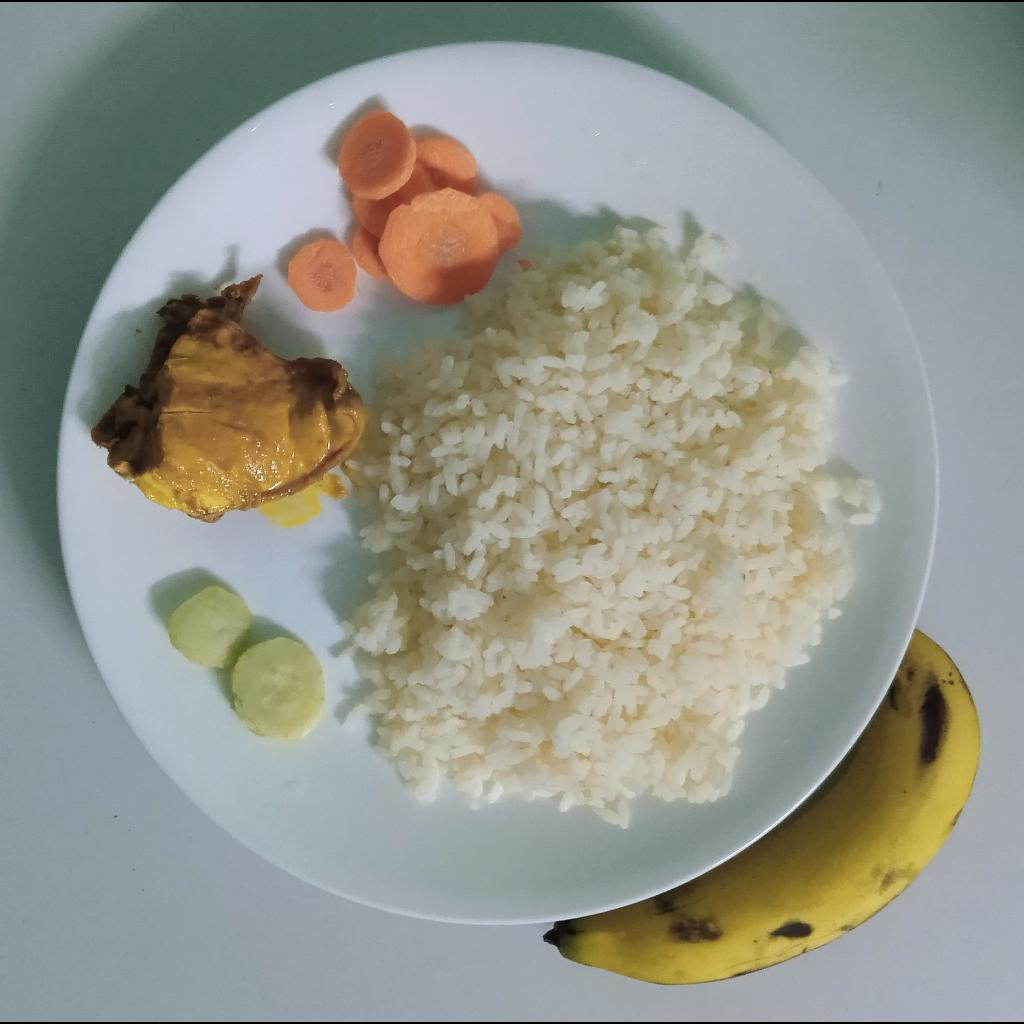banana: (544, 628, 982, 986)
carrot: (288, 111, 521, 312)
chicken: (90, 276, 369, 525)
cucumber: (167, 586, 329, 741)
rice: (333, 223, 881, 830)
